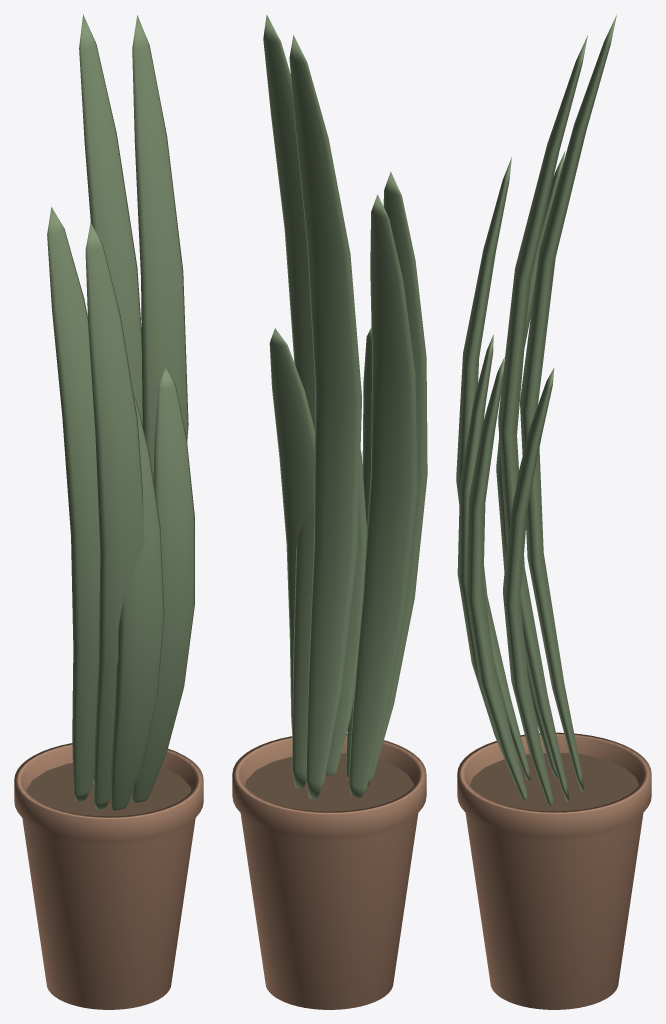
Rendered from snakeplant.glb.
3 renders of one model, left to right at view 1: azimuth 30°, elevation 25°; view 2: azimuth 150°, elevation 25°; view 3: azimuth 270°, elevation 25°, orthographic. The views are drawn at different scales.
Visible parts, largest first — view 1: planter-hollow-vessel, upright-blade-1, upright-blade-4, upright-blade-5, upright-blade-3, upright-blade-6, upright-blade-2, planter-contained-soil; view 2: planter-hollow-vessel, upright-blade-2, upright-blade-4, upright-blade-5, upright-blade-0, upright-blade-1, planter-contained-soil, upright-blade-3, upright-blade-6; view 3: planter-hollow-vessel, upright-blade-2, upright-blade-5, upright-blade-3, upright-blade-0, planter-contained-soil, upright-blade-1, upright-blade-6, upright-blade-4.
Boxes of the visible parts, bbox=[...] form: planter-hollow-vessel: bbox=[14, 743, 203, 1009]; upright-blade-1: bbox=[85, 222, 144, 809]; upright-blade-4: bbox=[47, 207, 100, 801]; upright-blade-5: bbox=[132, 15, 188, 480]; upright-blade-3: bbox=[132, 368, 194, 802]; upright-blade-6: bbox=[111, 397, 164, 810]; upright-blade-2: bbox=[79, 14, 142, 784]; planter-contained-soil: bbox=[26, 763, 190, 816]; planter-hollow-vessel: bbox=[232, 734, 426, 1009]; upright-blade-2: bbox=[289, 35, 361, 799]; upright-blade-4: bbox=[349, 194, 417, 797]; upright-blade-5: bbox=[263, 14, 315, 789]; upright-blade-0: bbox=[269, 328, 314, 782]; upright-blade-1: bbox=[367, 171, 427, 785]; planter-contained-soil: bbox=[245, 753, 414, 811]; upright-blade-3: bbox=[325, 450, 366, 775]; upright-blade-6: bbox=[346, 327, 372, 777]; planter-hollow-vessel: bbox=[457, 732, 651, 1009]; upright-blade-2: bbox=[520, 15, 616, 791]; upright-blade-5: bbox=[498, 35, 587, 801]; upright-blade-3: bbox=[466, 357, 527, 800]; upright-blade-0: bbox=[503, 368, 554, 805]; planter-contained-soil: bbox=[470, 753, 638, 811]; upright-blade-1: bbox=[456, 157, 530, 780]; upright-blade-6: bbox=[457, 334, 515, 784]; upright-blade-4: bbox=[496, 151, 565, 777].
Bounding box in the file's own units: 0.34 × 1.87 × 0.3418.
